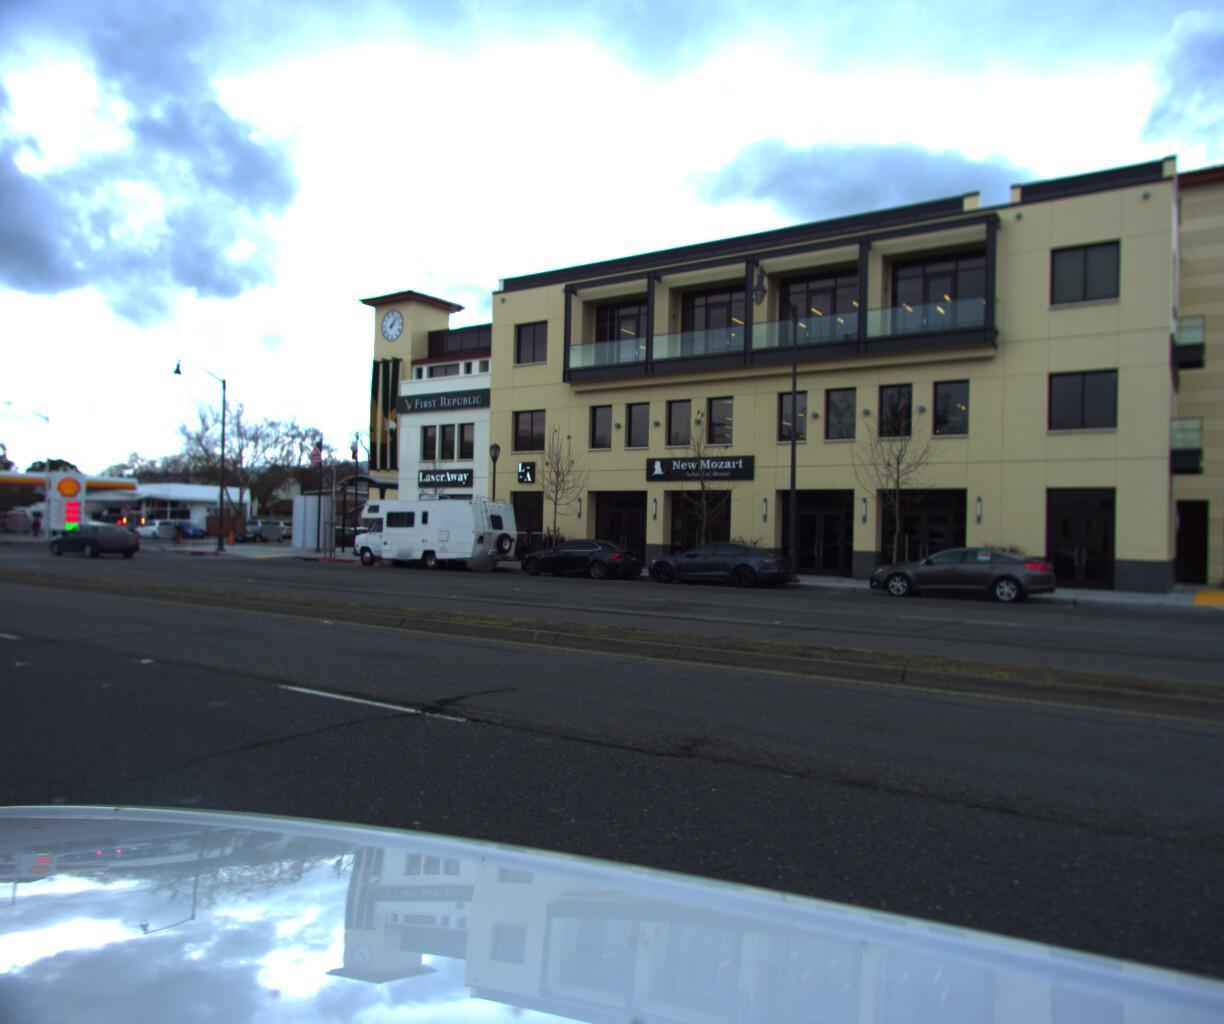bicycle: (169, 523, 199, 551)
car: (850, 540, 1060, 606), (631, 537, 803, 591), (508, 536, 653, 583), (41, 526, 148, 565), (36, 522, 116, 547), (226, 527, 293, 547), (157, 522, 213, 543), (128, 522, 182, 543)
other_vehicle: (340, 493, 529, 574), (115, 510, 151, 538)
